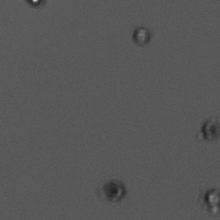Dead Cell: (96, 176, 132, 206), (202, 115, 219, 144)
Living Cell: (24, 1, 45, 5)
